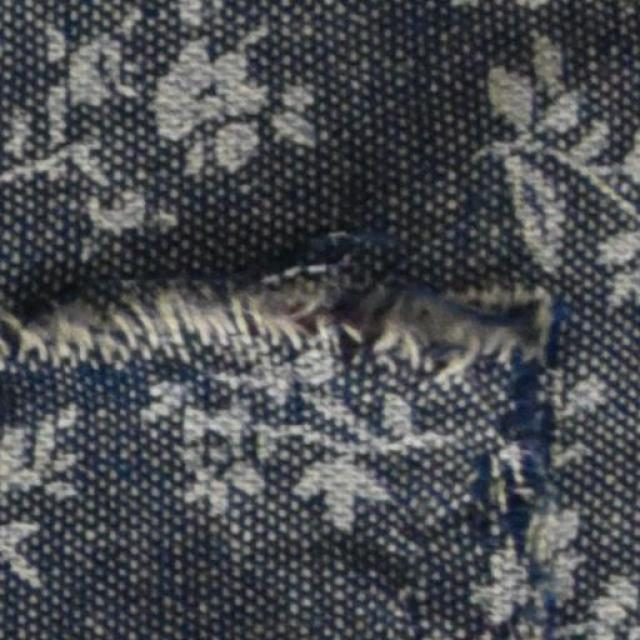Snag: (0, 250, 581, 572)
